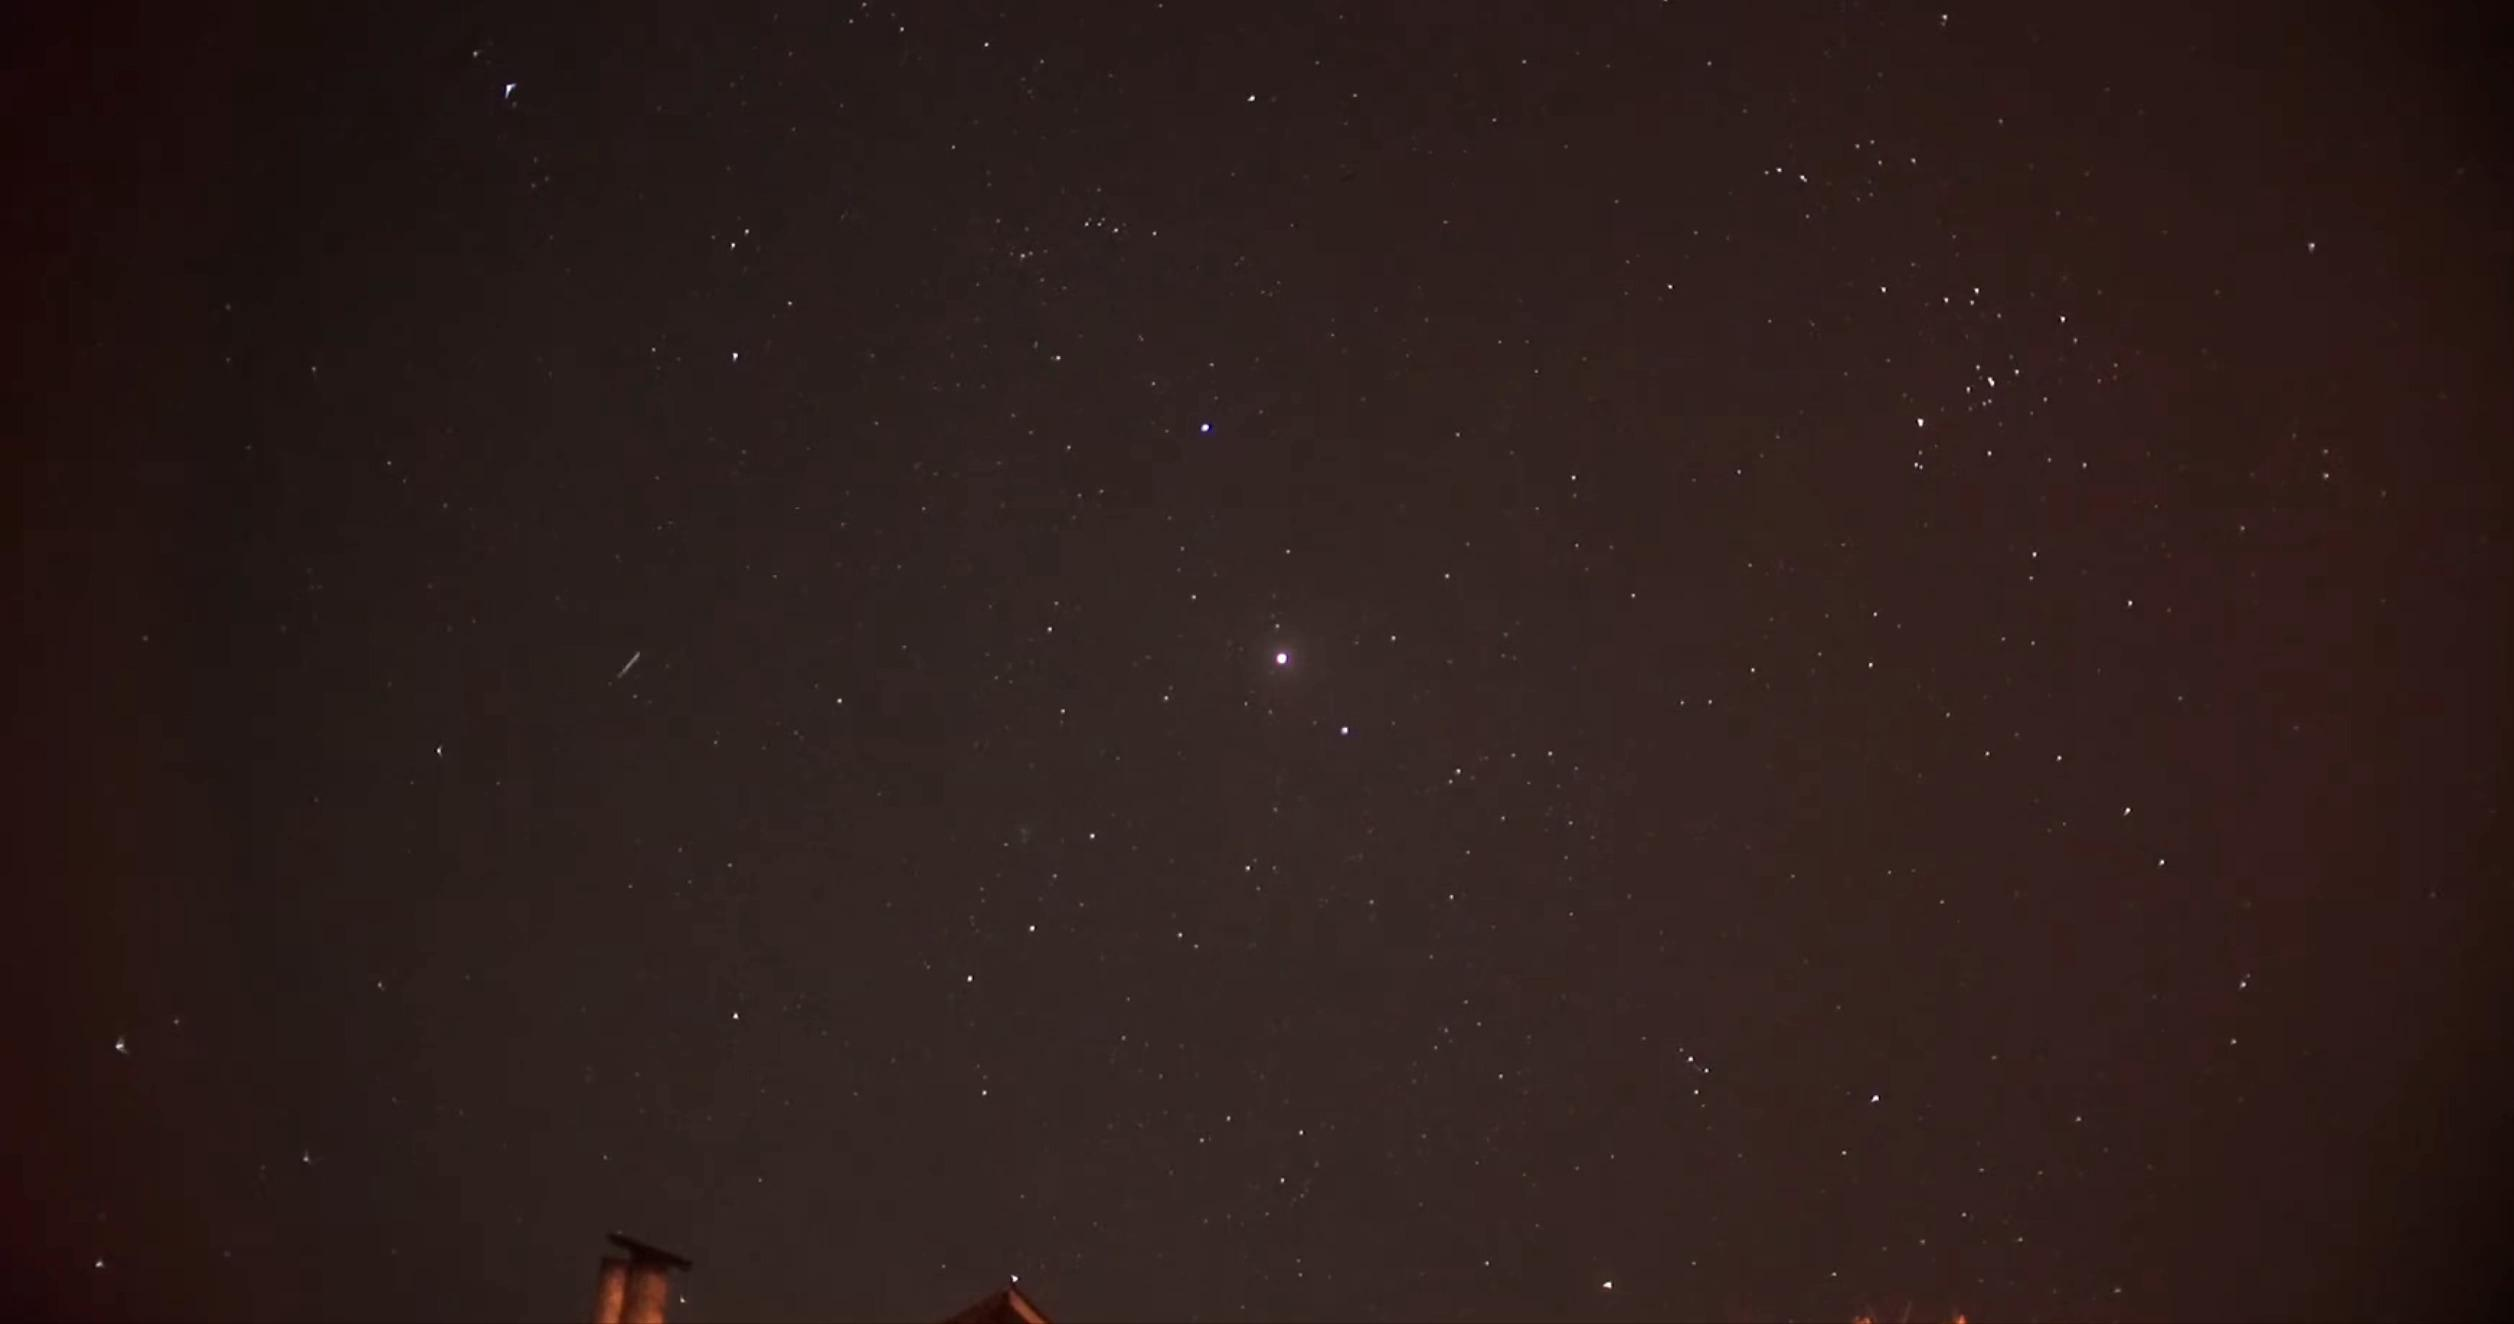meteorite: (572, 635, 680, 697)
